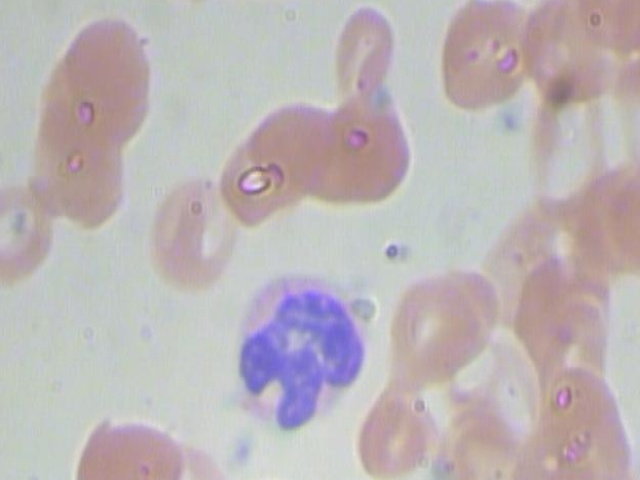Platelets: (220, 421, 267, 472)
RBC: (211, 89, 345, 235), (35, 12, 160, 140), (286, 91, 417, 213), (15, 105, 139, 233), (424, 0, 552, 124), (520, 81, 618, 217), (143, 169, 248, 290), (538, 357, 630, 480), (385, 264, 480, 379), (347, 374, 442, 480), (576, 158, 640, 292), (61, 413, 185, 480), (326, 0, 400, 112), (0, 166, 57, 300), (202, 471, 326, 480)
WBC: (223, 259, 372, 439)
